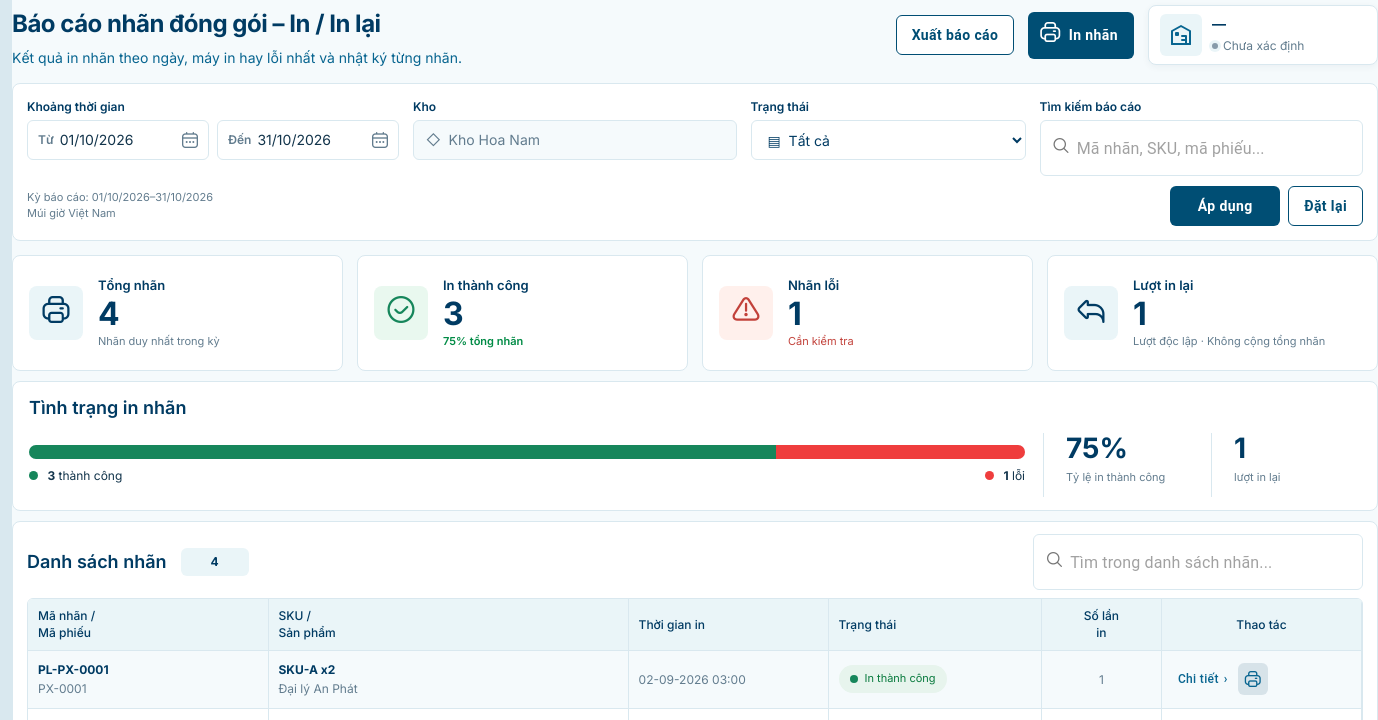
Test: RPT-05 · Nhãn đóng gói In / In lại › mở chi tiết đúng nhãn kèm bản lưu và lịch sử in
The width and height of the screenshot is (1378, 720).
What coordinates should you click on to do the following:
click the button with aria-label "Xem chi tiết nhãn"
I would click on:
 (1203, 679)
Its box is [1172,663,1234,695].
(page scrolled)
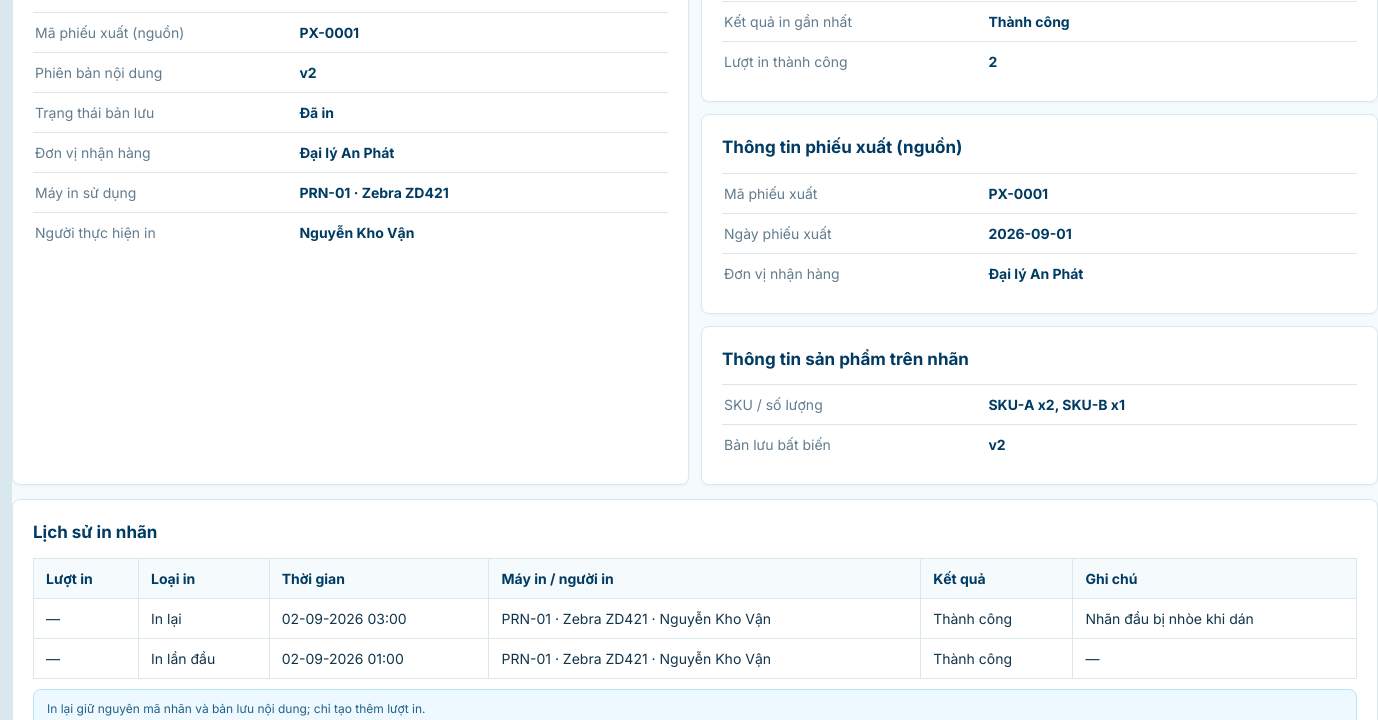
Now the text "Trạng thái bản lưu" is shown, box [35,104,154,121]
Now the text "Đã in" is shown, box [299,104,334,121]
Now the text "SKU-A x2, SKU-B x1" is shown, box [988,396,1125,413]
